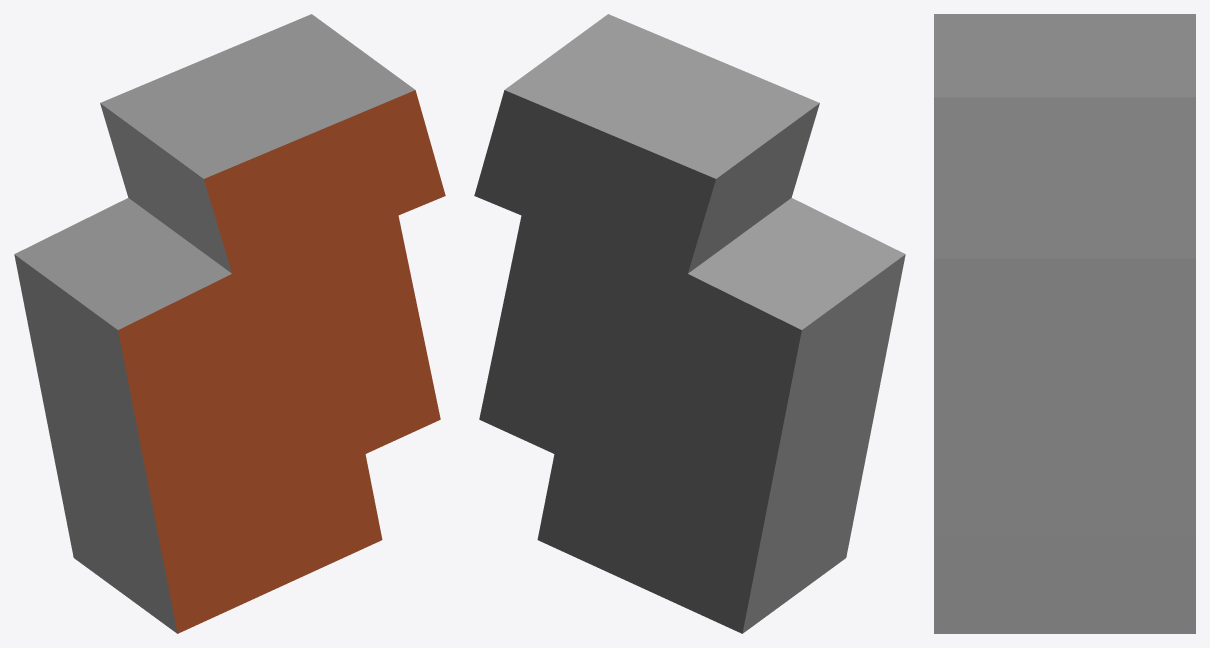
Rendered from construction_4913_assumed_A_Casa_h6m.obj.
The picture shows the model from 3 angles, left to right: view 1: azimuth 30°, elevation 25°; view 2: azimuth 150°, elevation 25°; view 3: azimuth 270°, elevation 25°; orthographic projection. The views are drawn at different scales.
Parts seen in each view (by area): view 1: construction_4913_assumed_A_Casa; view 2: construction_4913_assumed_A_Casa; view 3: construction_4913_assumed_A_Casa.
Boxes of the visible parts, x1,y1,x2,y2 form: construction_4913_assumed_A_Casa: (14, 14, 445, 633); construction_4913_assumed_A_Casa: (474, 14, 905, 633); construction_4913_assumed_A_Casa: (934, 14, 1195, 633).
Size of the model in its own units: 10.93 by 15.49 by 6.
